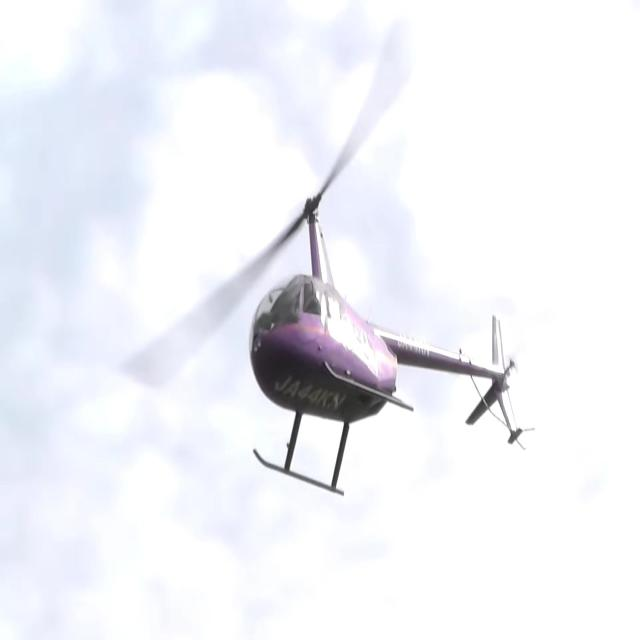CIV_HELO: (242, 188, 528, 500)
